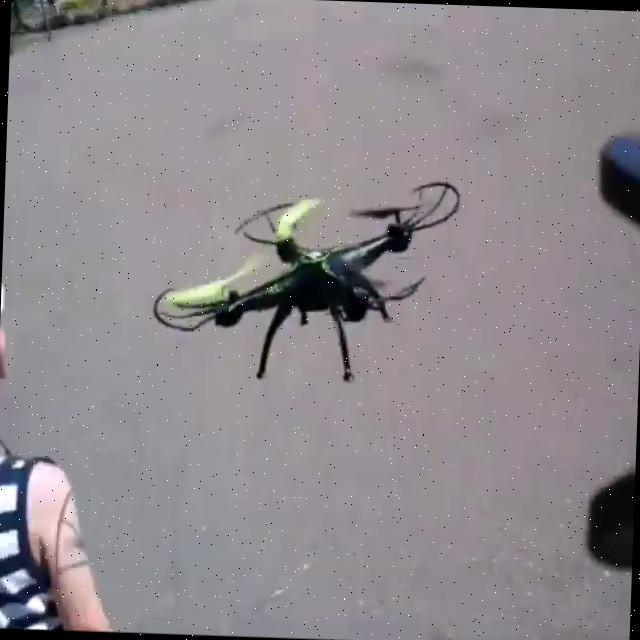Drons: (144, 165, 466, 396)
